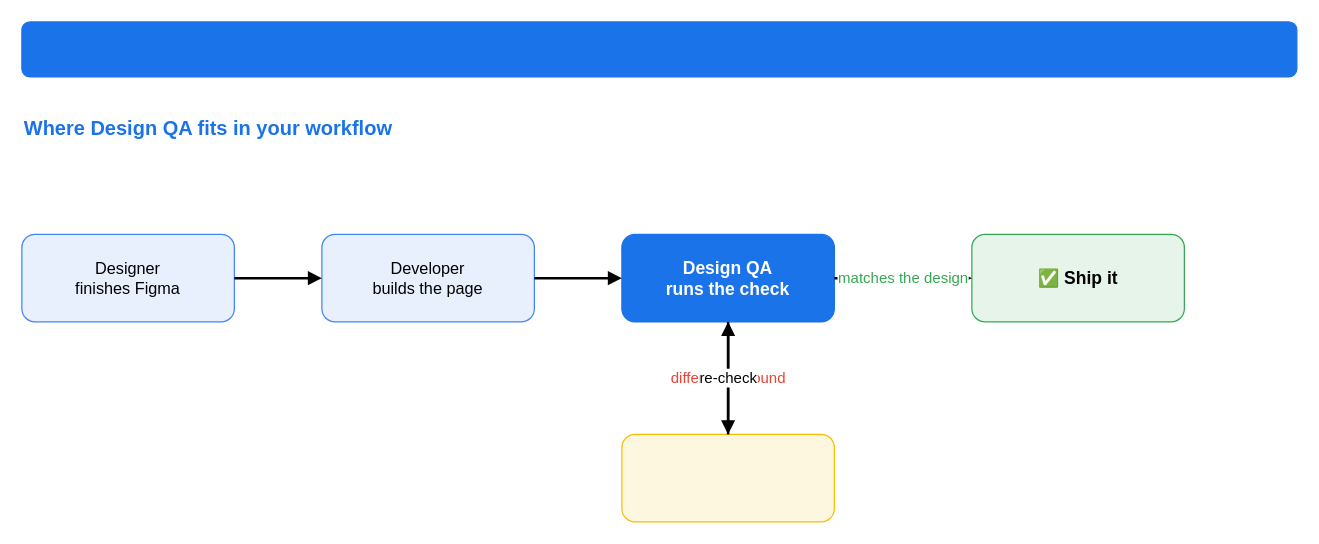
This 1319x544 diagram has some shape labels left out. Grey dashed boxes stand in for pictures. Here are the shapes that lost their labels. From the top down, the centre of each, then its label:
(659,49): Pixparity — Where It Fits
(727,477): Developer fixes & re-runs
